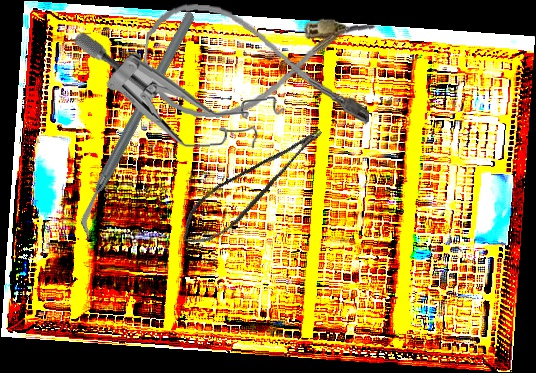Cannula: (139, 0, 378, 132)
Chopper: (13, 8, 263, 242)
Micro Scissor: (168, 122, 341, 255)
Speculum: (73, 26, 289, 154)
